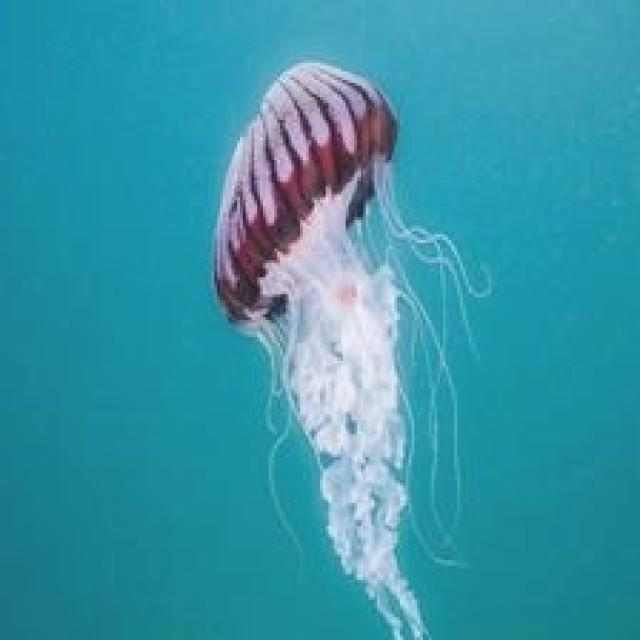Moon-jellyfish: (208, 57, 492, 637)
